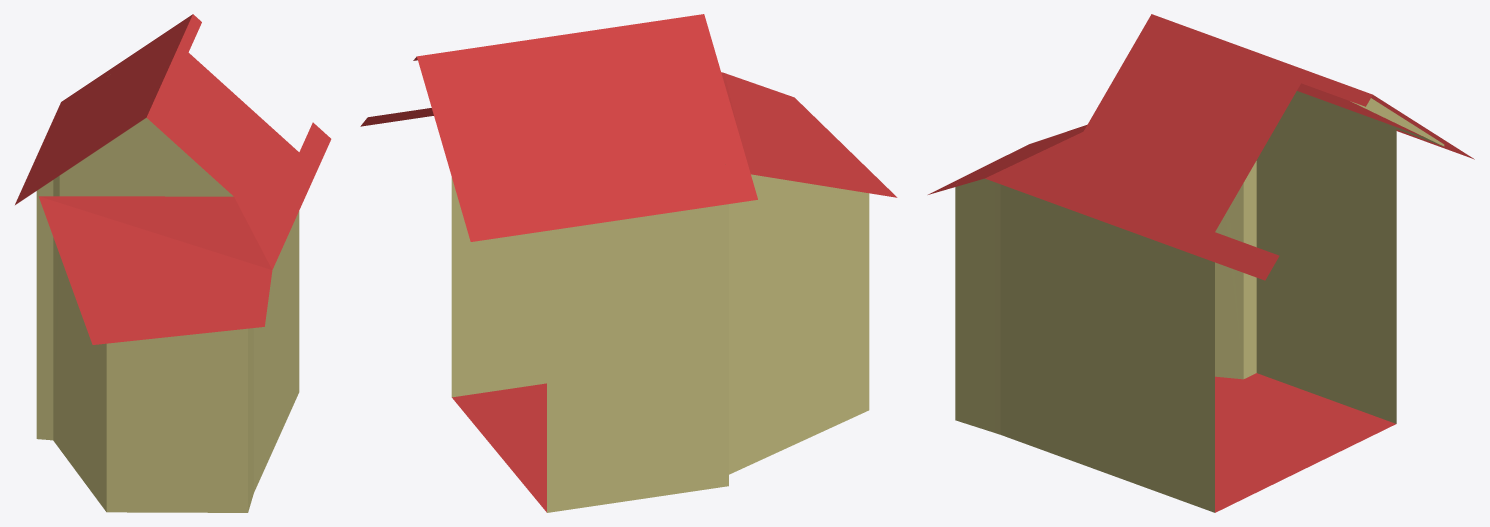
3 views of the same model, side by side, from view 1: azimuth 30°, elevation 25°; view 2: azimuth 150°, elevation 25°; view 3: azimuth 270°, elevation 25° (orthographic). The views are drawn at different scales.
Bounding box in the file's own units: 15.55 × 18.59 × 14.79.
